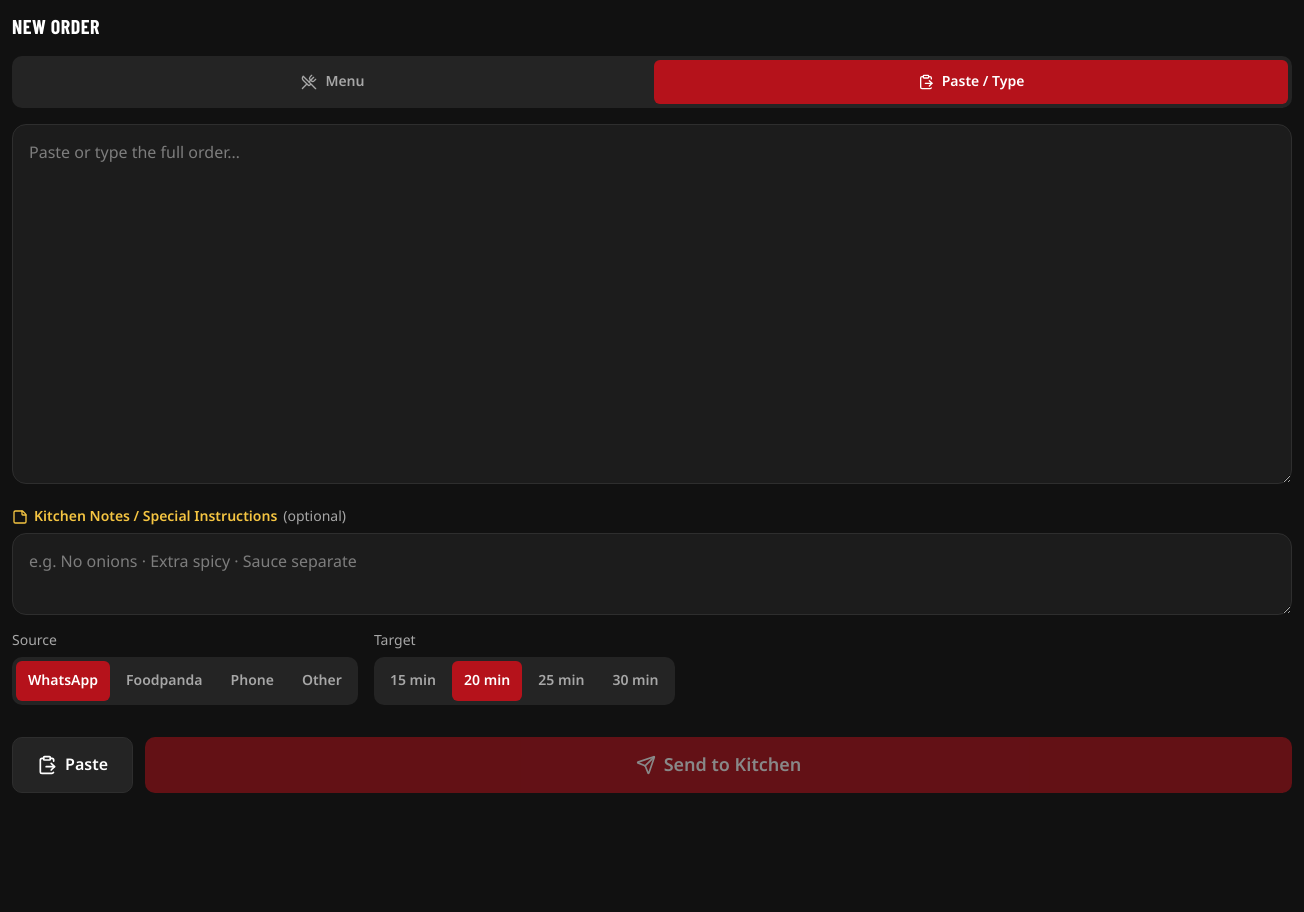
Test: OrderComposer menu mode (ADR-027) › sends the selected lines with notes, then clears the cart and notes
Click the tab "Menu".
click(333, 82)  # box x1=16 y1=60 x2=650 y2=104
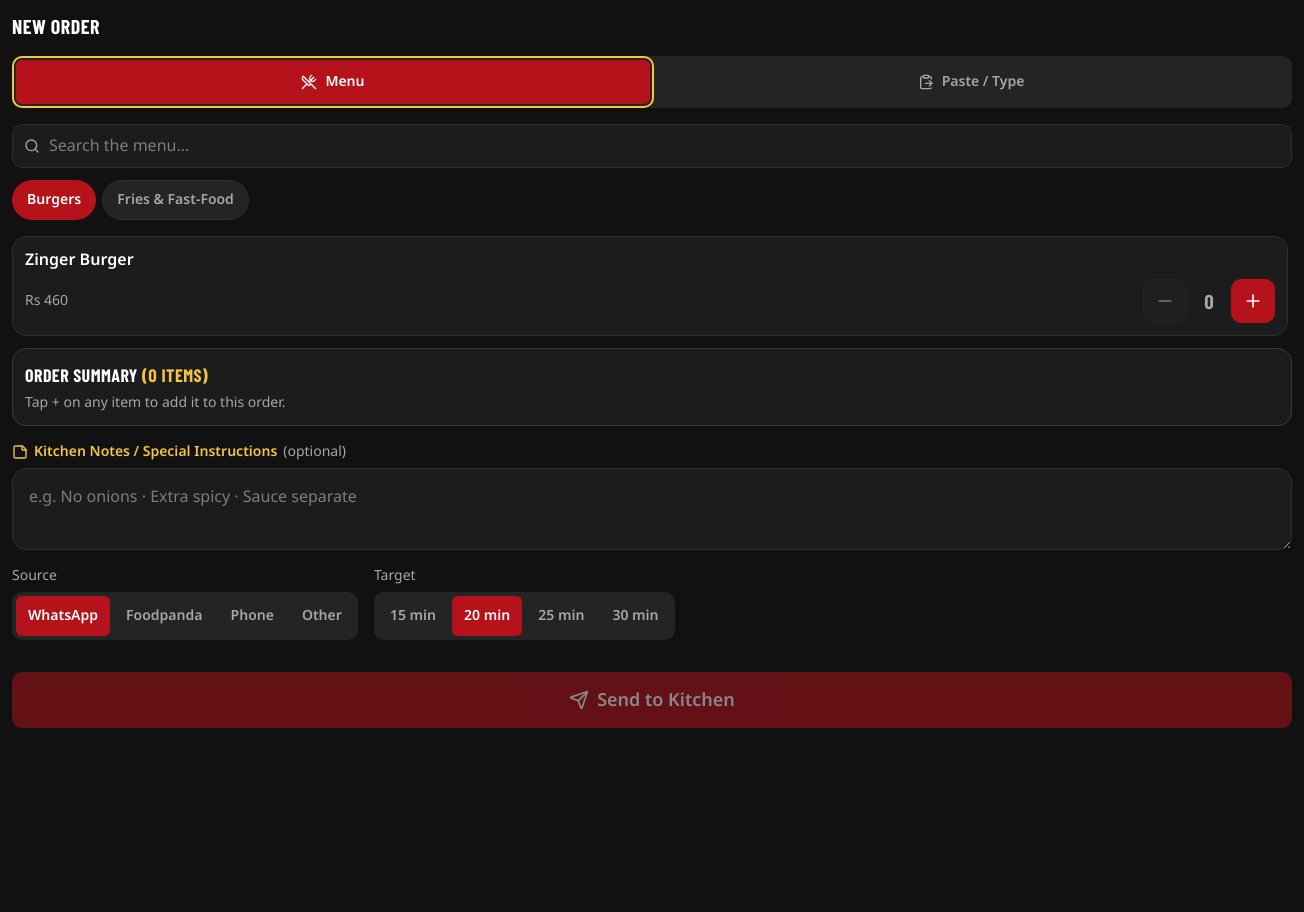
Expected: the button "Send to Kitchen" is disabled, x1=12 y1=672 x2=1292 y2=728
Click the button named "Add one Zinger Burger".
click(1253, 301)  # box x1=1231 y1=279 x2=1275 y2=323
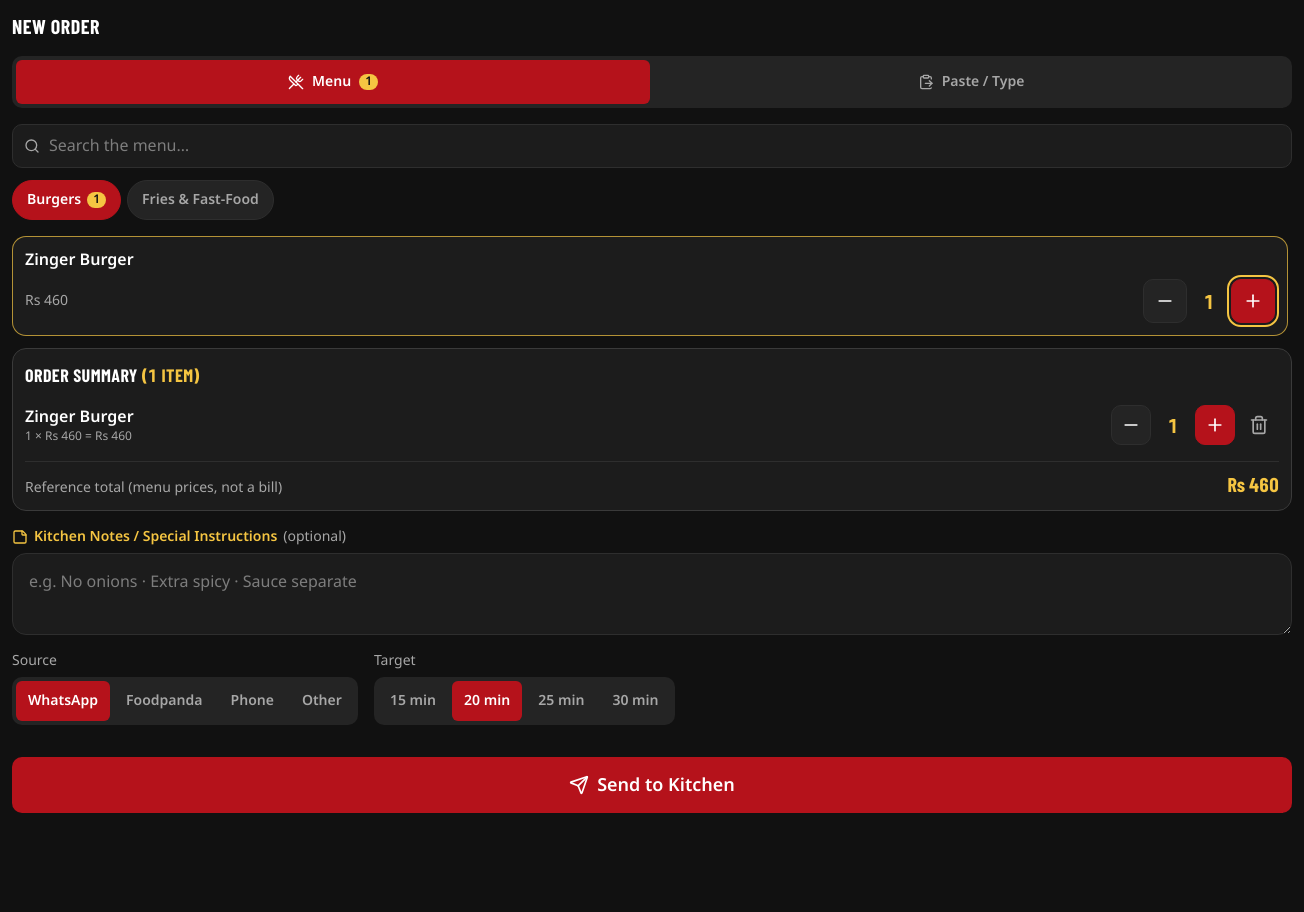
Type "No mayo" into the text box labelled "Kitchen Notes / Special Instructions (optional)".
click(652, 594); type("No mayo")  # box x1=12 y1=553 x2=1292 y2=635
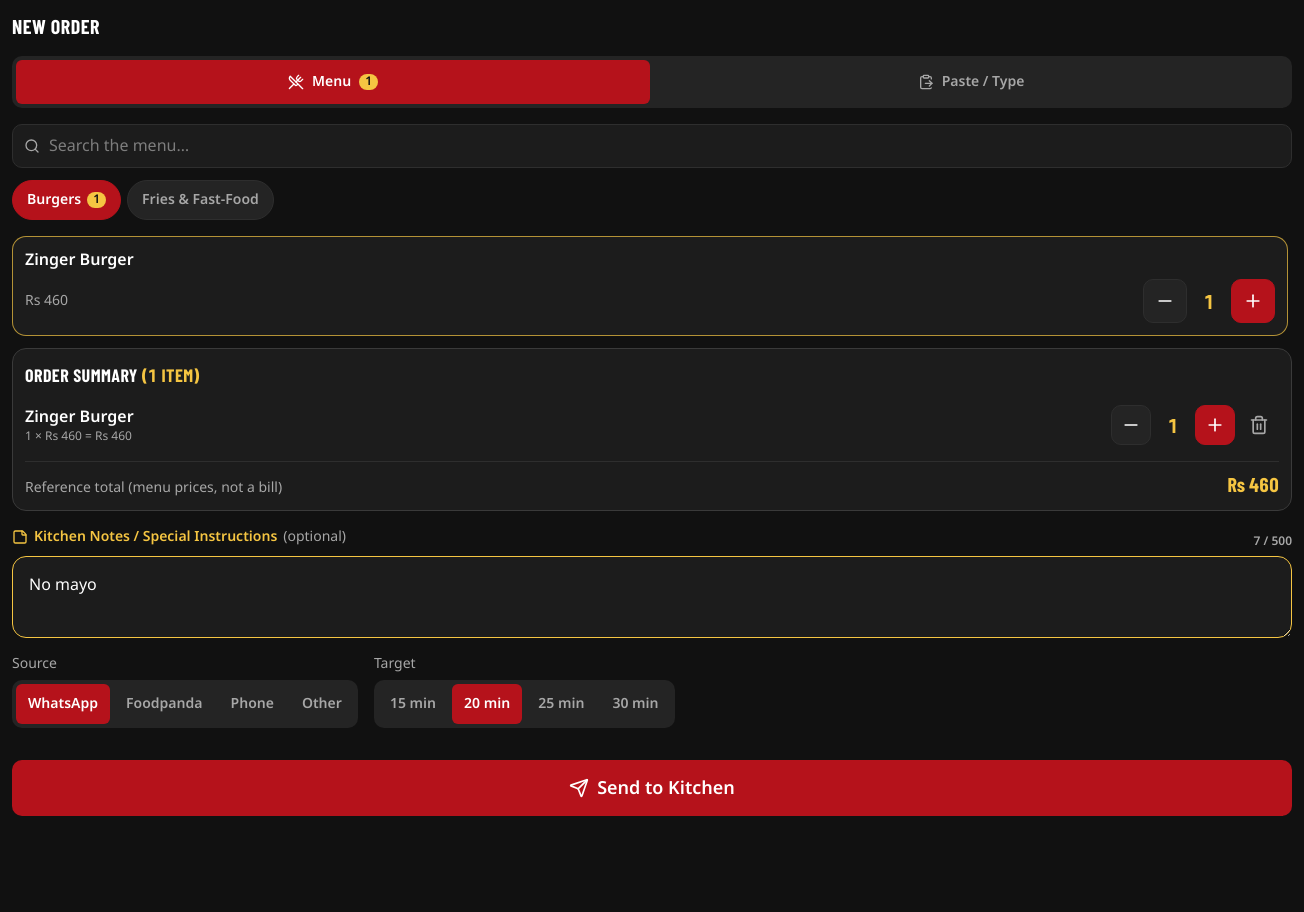
Click the button "Send to Kitchen".
click(652, 788)  # box x1=12 y1=760 x2=1292 y2=816
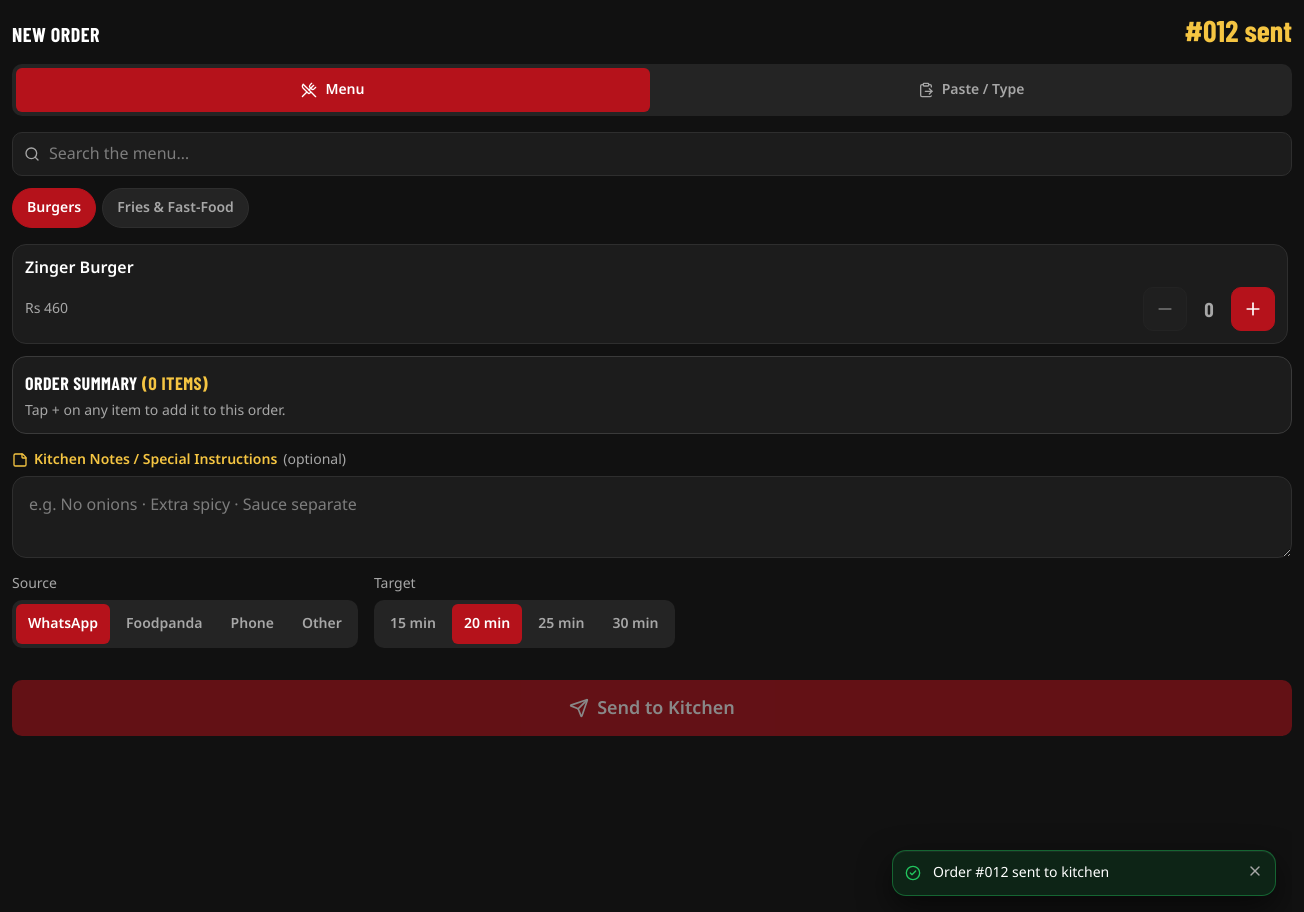
Expected: the element "Order summary" shows "(0 items)", x1=12 y1=356 x2=1292 y2=434
Expected: the text box labelled "Kitchen Notes / Special Instructions (optional)" is empty, x1=12 y1=476 x2=1292 y2=558
